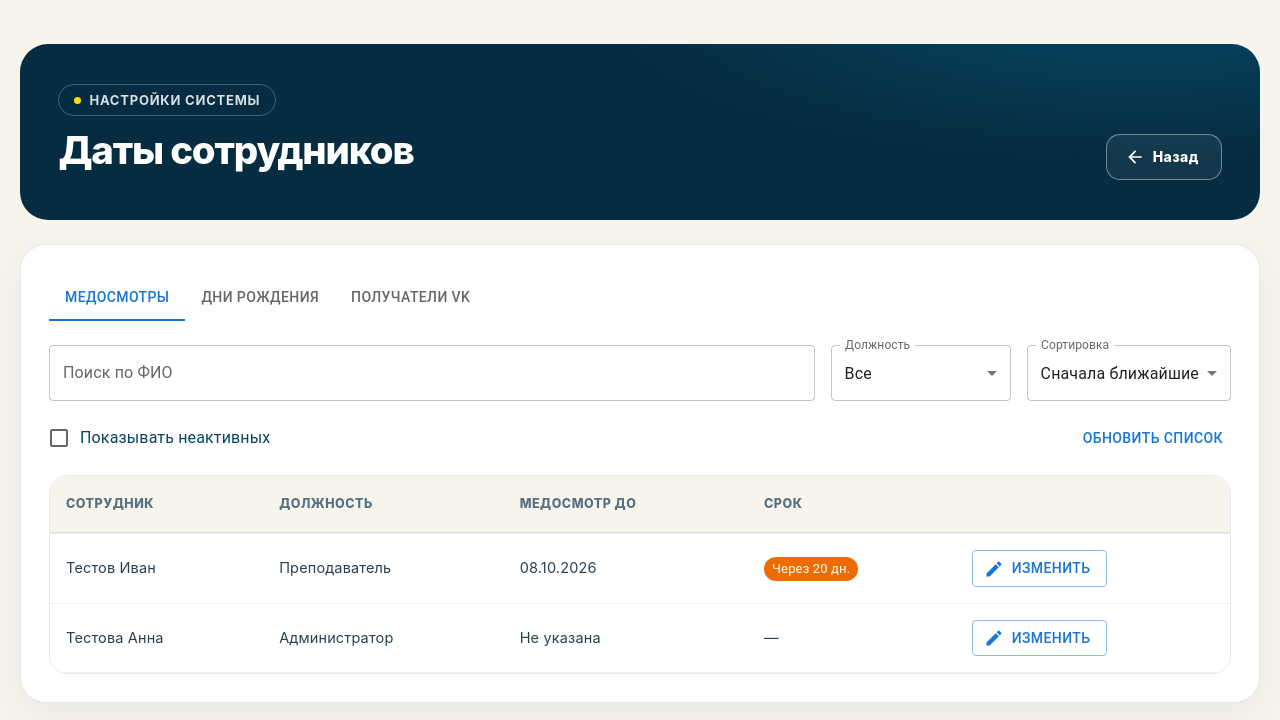
it: a conflict keeps edited dates in the modal
Expected: the text "Тестов Иван" is shown, x1=50 y1=533 x2=263 y2=603
Click the button "Изменить" in the row of "Тестов Иван": (1039, 569) x1=972 y1=550 x2=1106 y2=587
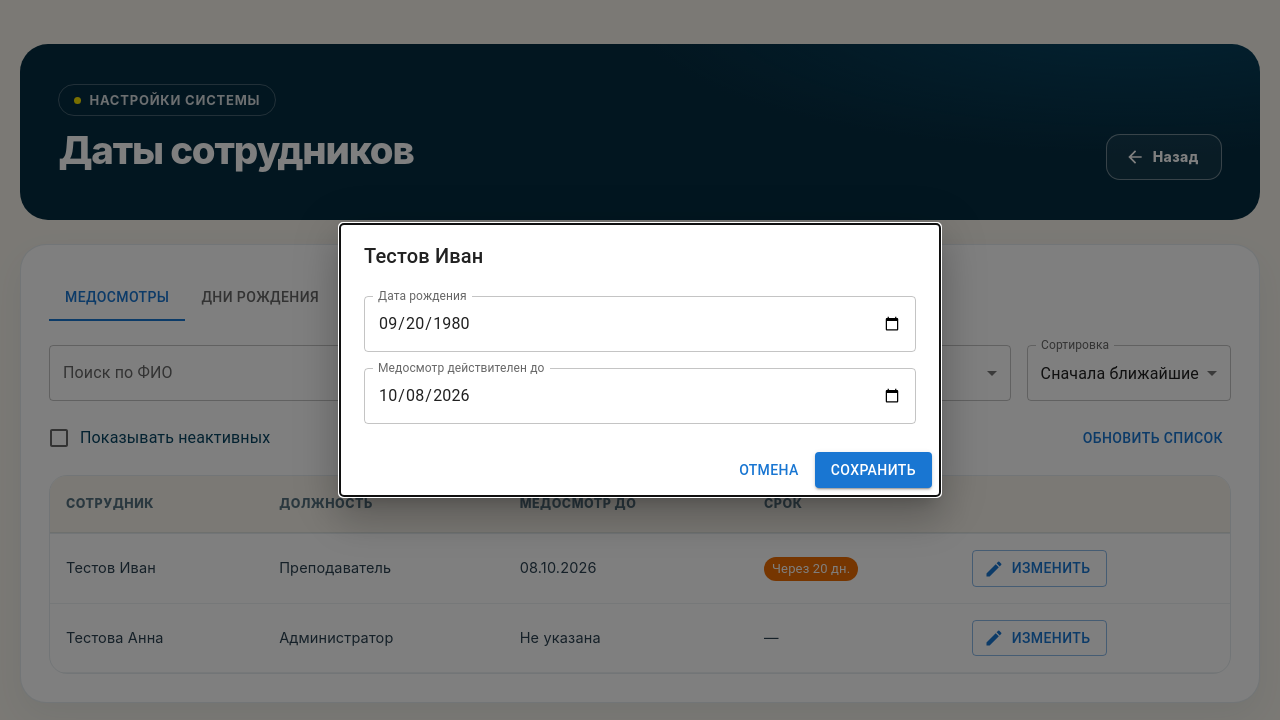
In the date field labelled "Дата рождения": (640, 324) x1=364 y1=296 x2=916 y2=352, type "1980-10-01"
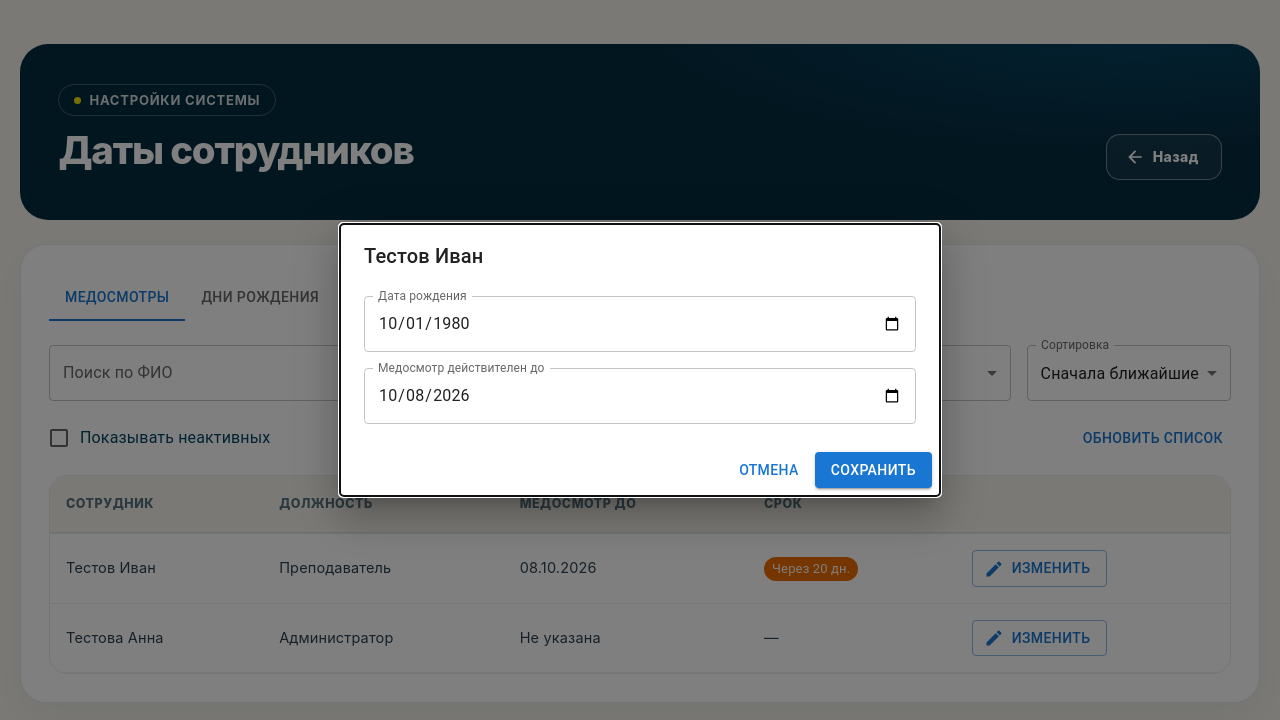
Click the button "Сохранить": (873, 470) x1=815 y1=452 x2=932 y2=488
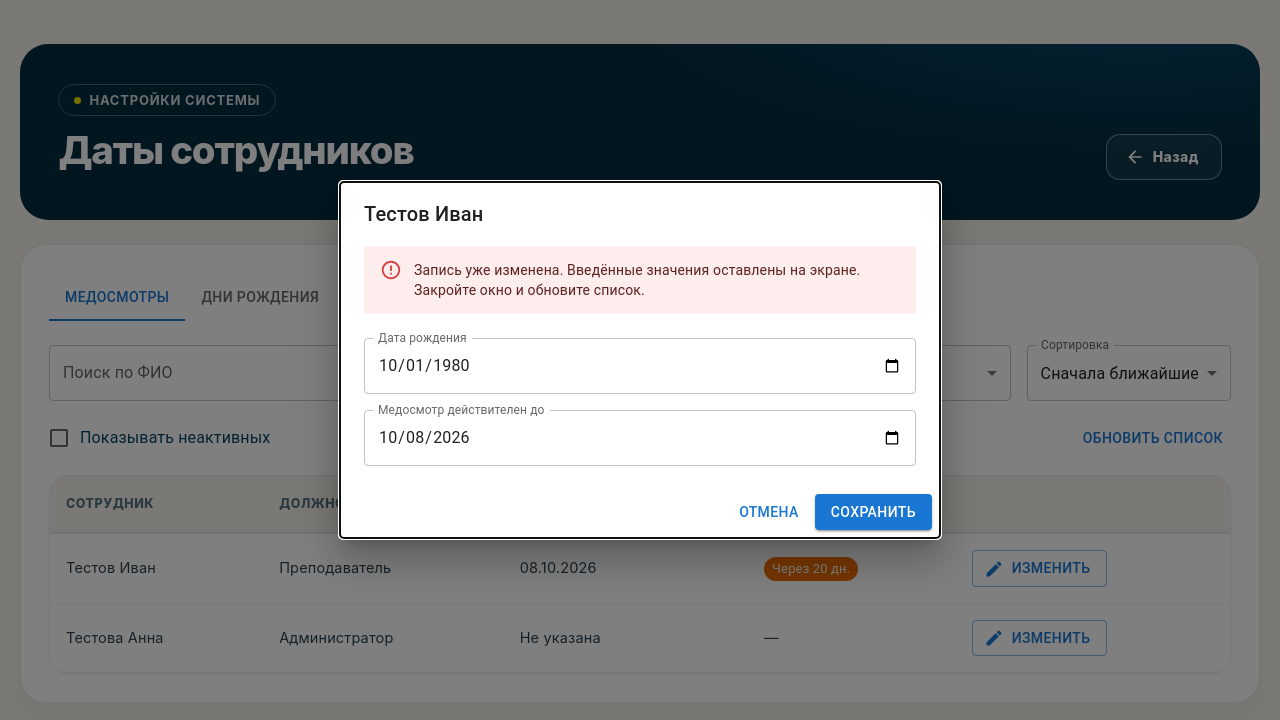
Expected: the text "Запись уже изменена" is shown, x1=414 y1=262 x2=860 y2=298
